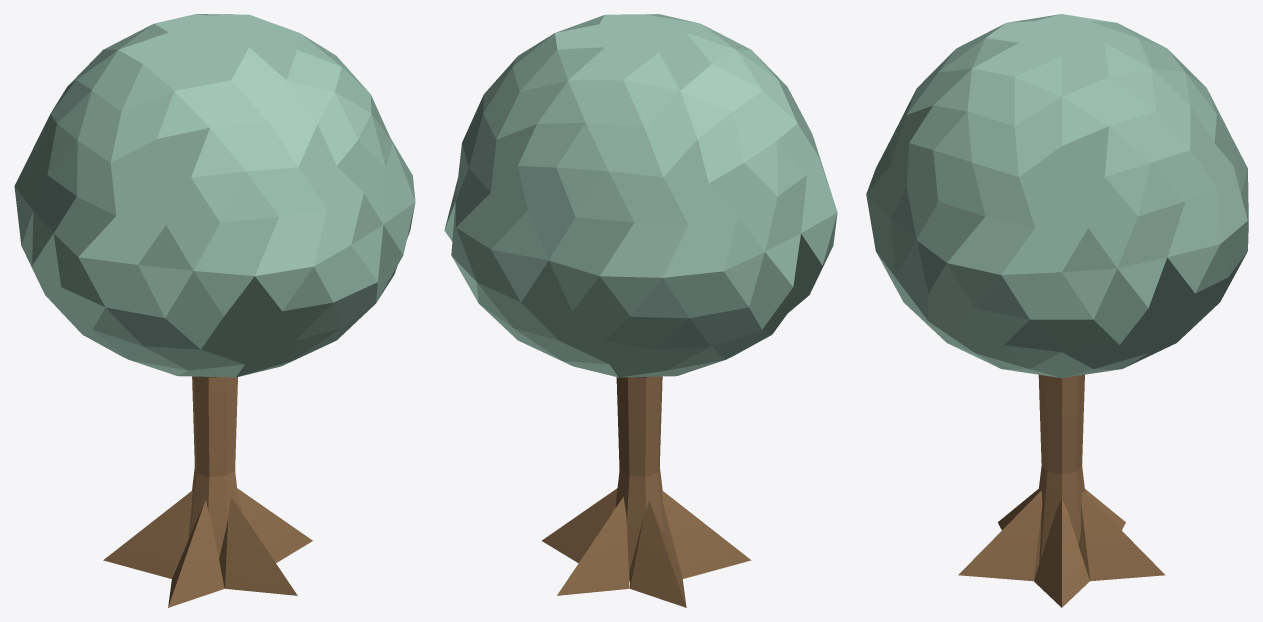
File: tree.glb
The picture shows the model from 3 angles, left to right: view 1: azimuth 30°, elevation 25°; view 2: azimuth 150°, elevation 25°; view 3: azimuth 270°, elevation 25°; orthographic projection.
Visible parts, largest first — view 1: root_mesh; view 2: root_mesh; view 3: root_mesh.
Part boxes in pixels (bbox=[...]): root_mesh: bbox=[14, 14, 415, 607]; root_mesh: bbox=[444, 14, 837, 607]; root_mesh: bbox=[866, 14, 1248, 607].
Size of the model in its own units: 2.3 by 3.5 by 2.3.
